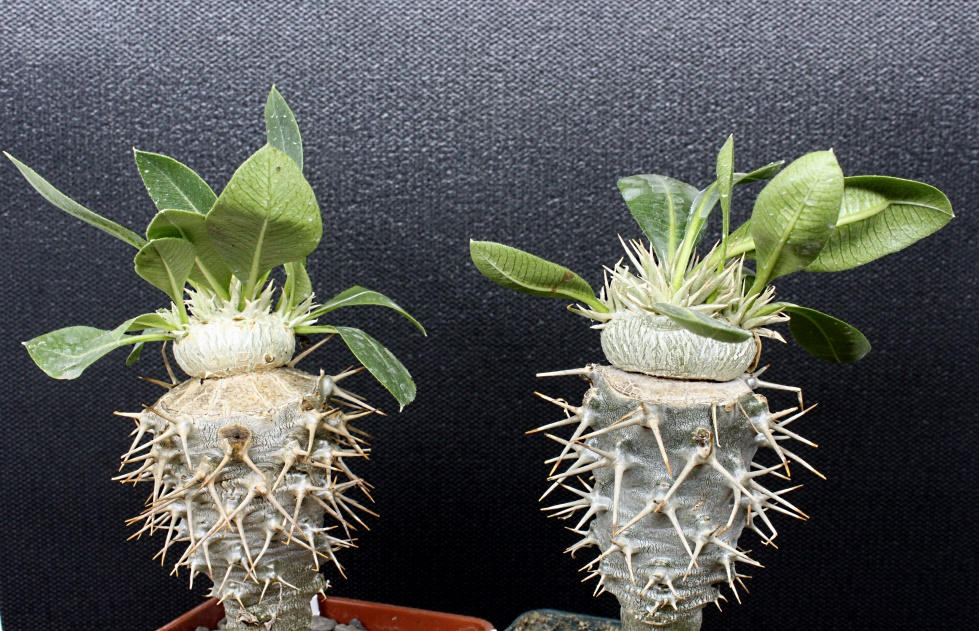Pachypodium brevicaule: (97, 179, 422, 611), (542, 179, 824, 616)
